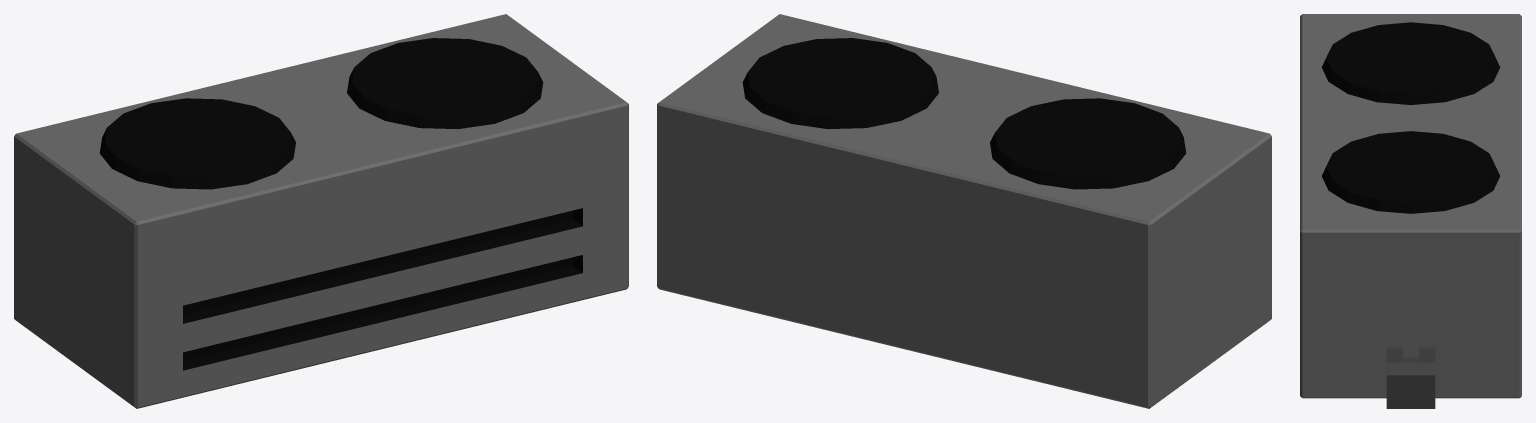
The model's file is Prop_RoofVent_08.fbx.
The picture shows the model from 3 angles, left to right: view 1: azimuth 30°, elevation 25°; view 2: azimuth 150°, elevation 25°; view 3: azimuth 270°, elevation 25°; orthographic projection. The views are drawn at different scales.
Parts seen in each view (by area): view 1: Prop_RoofVent_08; view 2: Prop_RoofVent_08; view 3: Prop_RoofVent_08.
Part boxes in pixels (bbox=[...]): Prop_RoofVent_08: bbox=[14, 14, 628, 408]; Prop_RoofVent_08: bbox=[657, 14, 1271, 408]; Prop_RoofVent_08: bbox=[1300, 14, 1521, 408].
Bounding box in the file's own units: 171 × 62.7 × 70.74.
